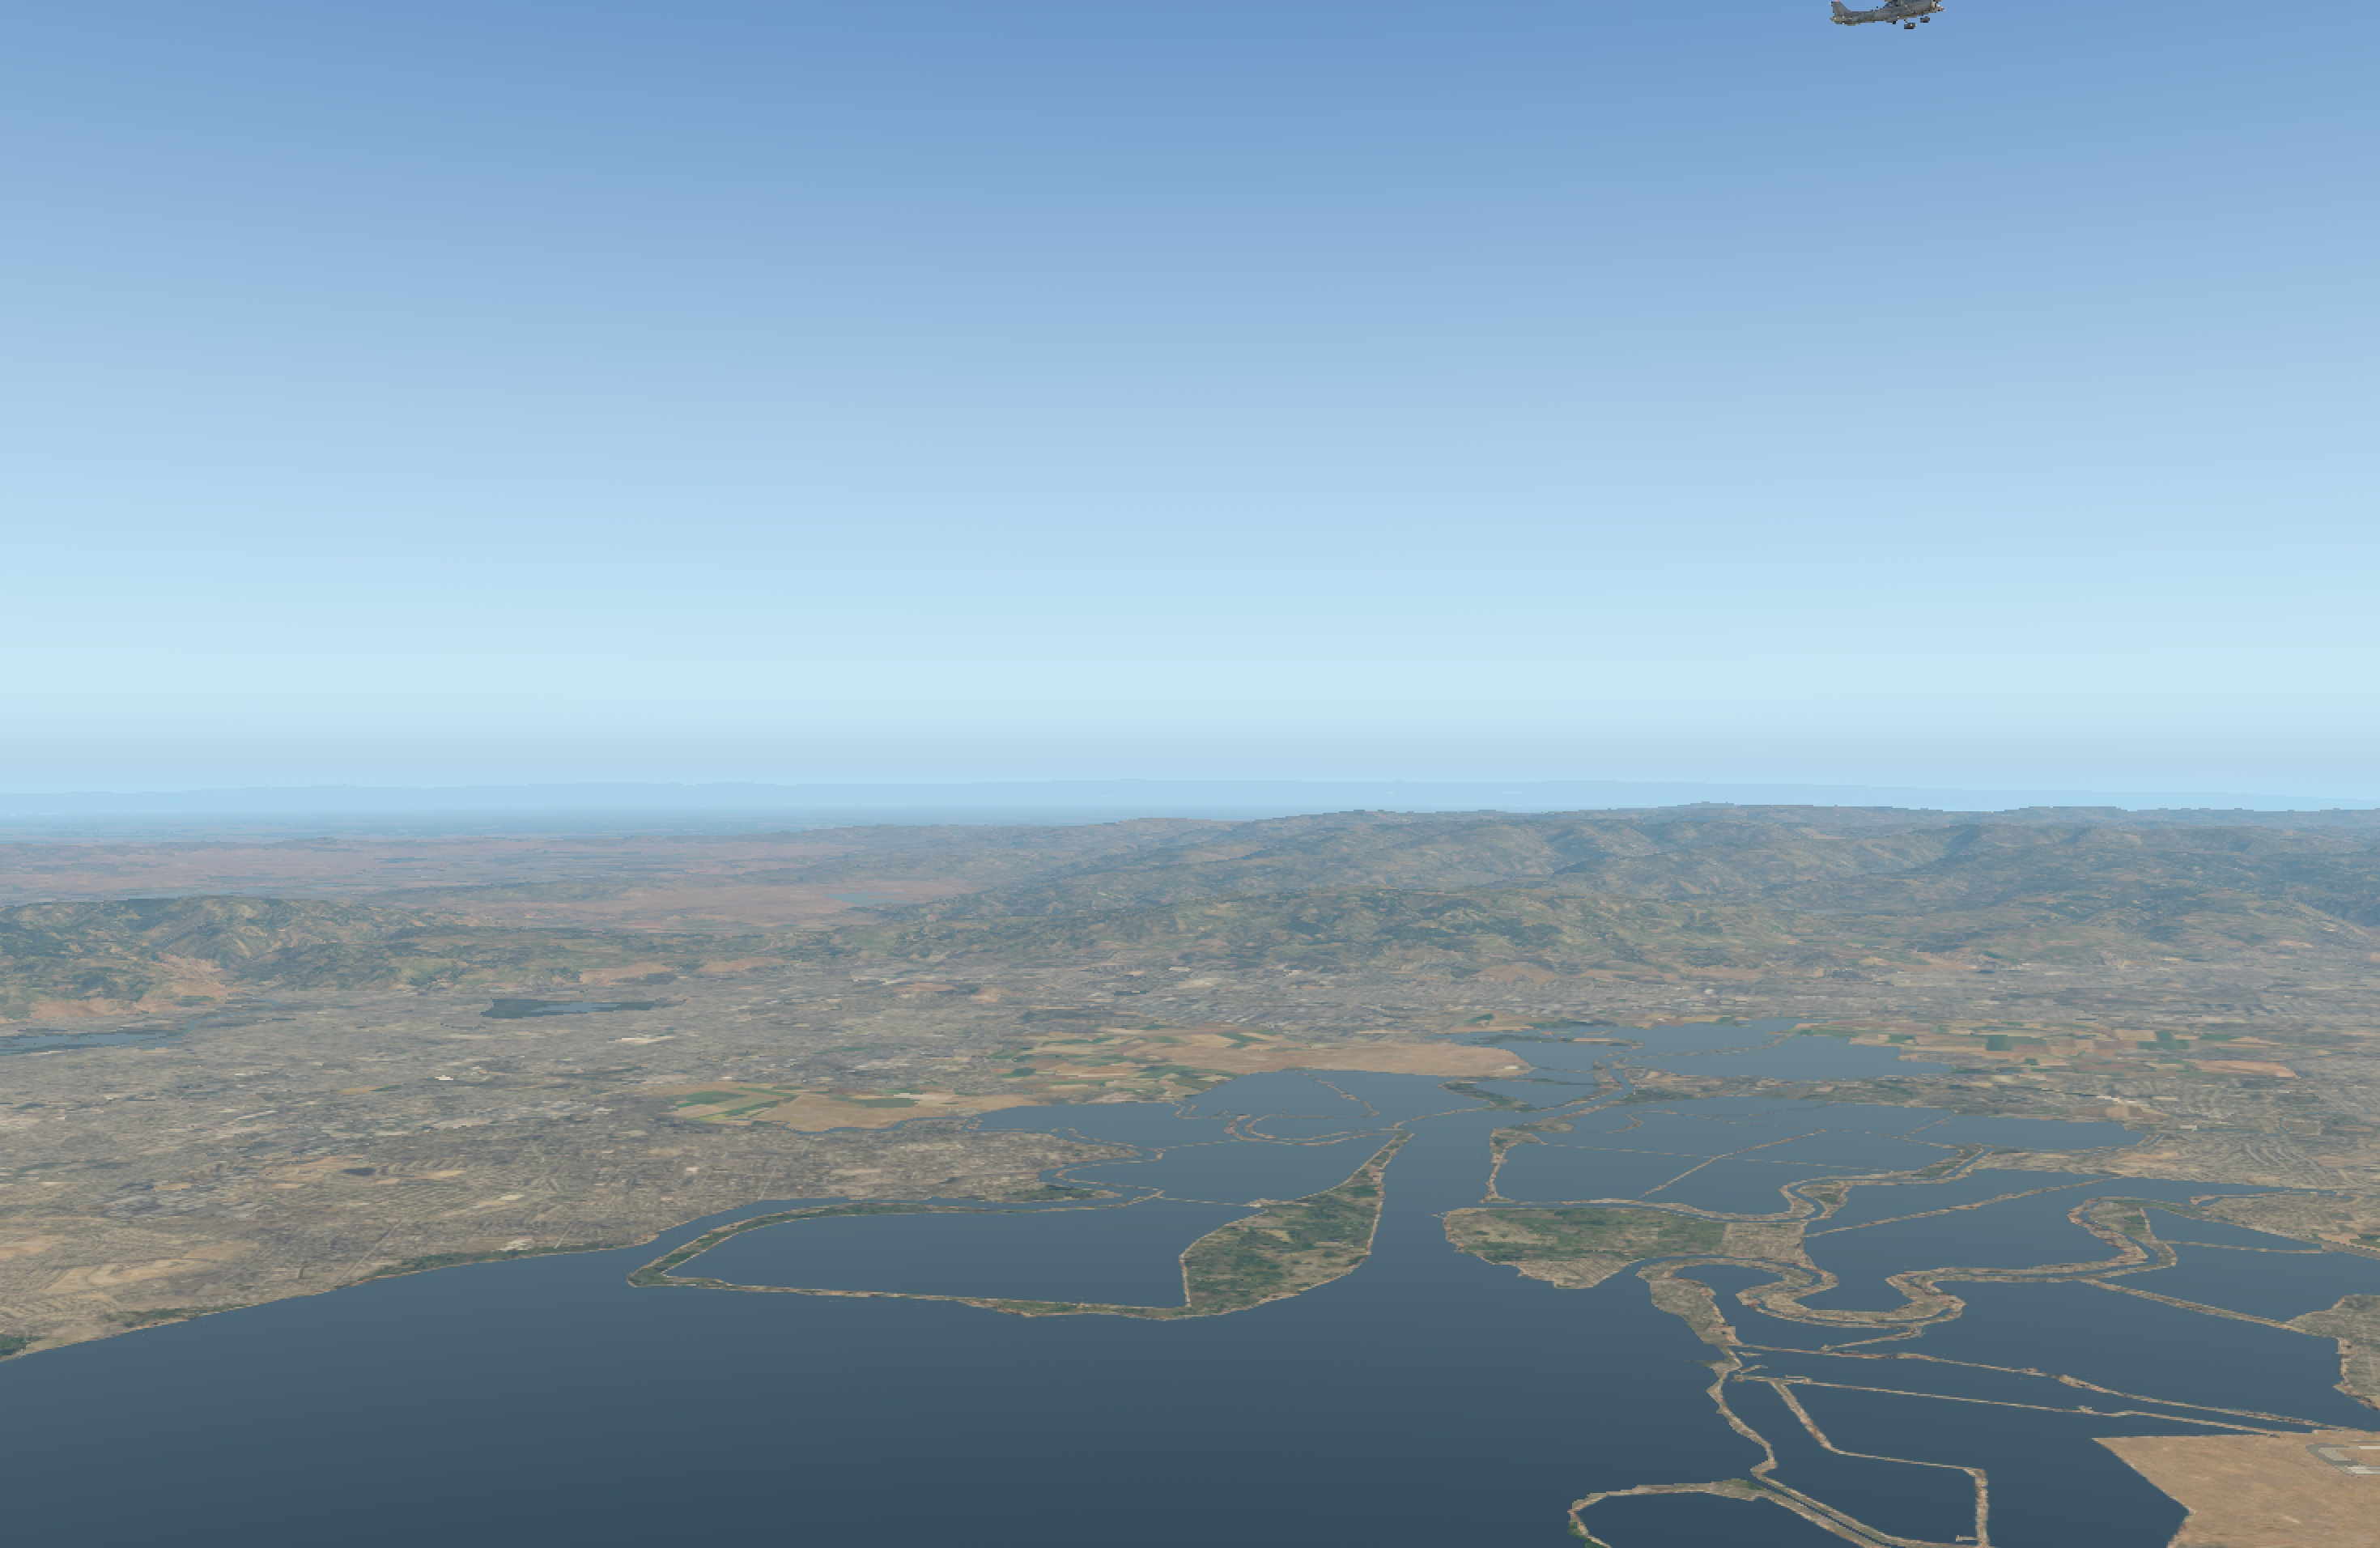aircraft: (1856, 0, 1958, 26)
